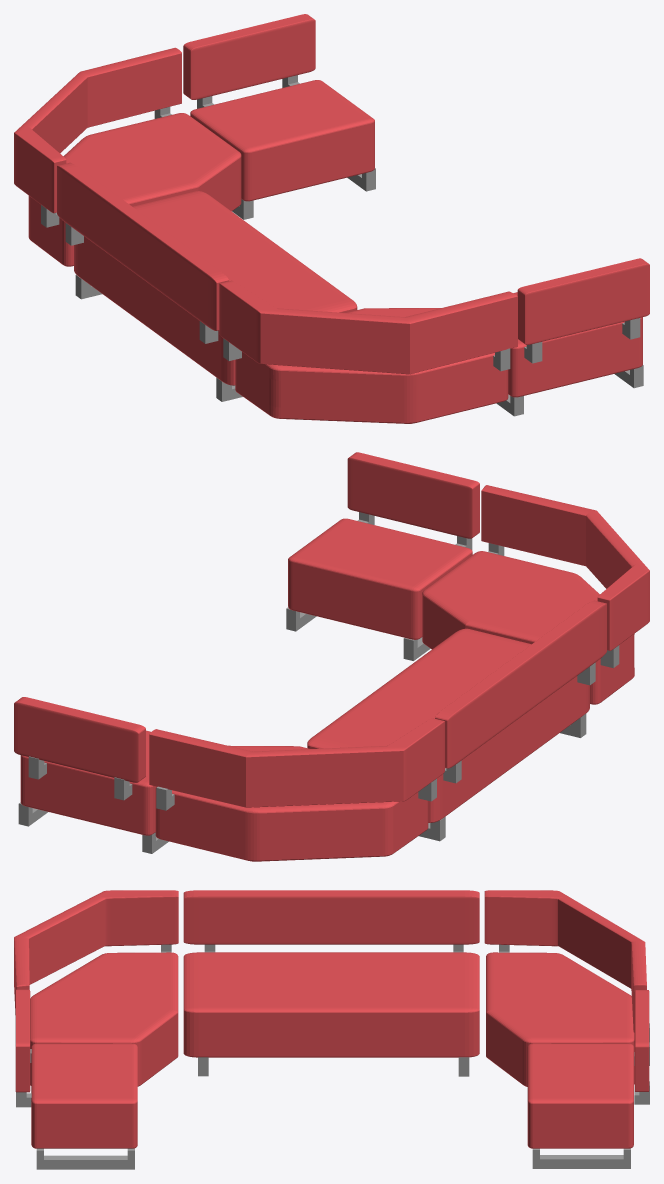
File: couch.fbx
3 views of the same model, one above another, from view 1: azimuth 30°, elevation 25°; view 2: azimuth 150°, elevation 25°; view 3: azimuth 270°, elevation 25° (orthographic). The views are drawn at different scales.
Visible parts, largest first — view 1: Cube.006, Cube, Cube.003, Cube.001, Cube.004, Cube.009, Cube.005, Cube.007, Cube.008, Cube.002; view 2: Cube.009, Cube, Cube.004, Cube.002, Cube.001, Cube.006, Cube.005, Cube.008, Cube.007, Cube.003; view 3: Cube, Cube.005, Cube.001, Cube.004, Cube.003, Cube.002, Cube.006, Cube.009, Cube.008, Cube.007, Cube.015, Cube.012.
Boxes of the visible parts, box(x1,y1,x2,y2) form: Cube.006: box(219, 280, 517, 374); Cube: box(74, 191, 357, 385); Cube.003: box(190, 80, 374, 201); Cube.001: box(235, 308, 508, 423); Cube.004: box(28, 113, 241, 266); Cube.009: box(14, 47, 181, 213); Cube.005: box(57, 162, 228, 330); Cube.007: box(183, 14, 315, 99); Cube.008: box(517, 258, 649, 344); Cube.002: box(508, 292, 642, 397); Cube.009: box(149, 718, 444, 807); Cube: box(307, 628, 589, 822); Cube.004: box(155, 745, 428, 861); Cube.002: box(288, 518, 472, 639); Cube.001: box(422, 551, 634, 704); Cube.006: box(481, 485, 649, 650); Cube.005: box(435, 600, 606, 768); Cube.008: box(347, 452, 479, 538); Cube.007: box(14, 697, 145, 782); Cube.003: box(20, 730, 155, 835); Cube: box(183, 952, 479, 1057); Cube.005: box(183, 890, 479, 944); Cube.001: box(30, 952, 178, 1086); Cube.004: box(486, 952, 634, 1086); Cube.003: box(527, 1043, 633, 1148); Cube.002: box(31, 1043, 137, 1148); Cube.006: box(14, 890, 178, 1014); Cube.009: box(484, 890, 646, 1032); Cube.008: box(15, 989, 30, 1092); Cube.007: box(634, 990, 649, 1091); Cube.015: box(36, 1148, 134, 1169); Cube.012: box(532, 1148, 630, 1168).
Size of the model in its own units: 707 by 257 by 1208.
